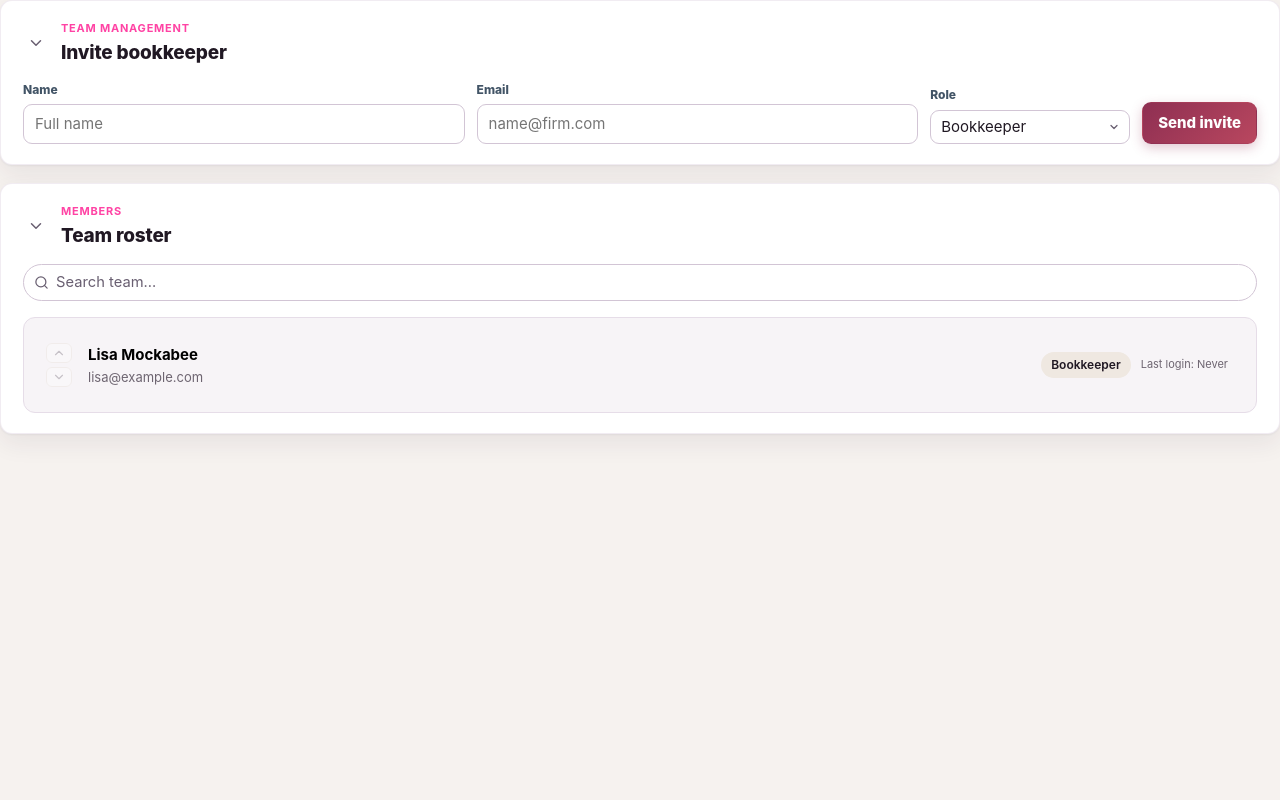
it: suggestions › shows no Suggested block when she holds no work off her team
Click the button with class "team-card-header": (143, 354) [72,330,1244,400]
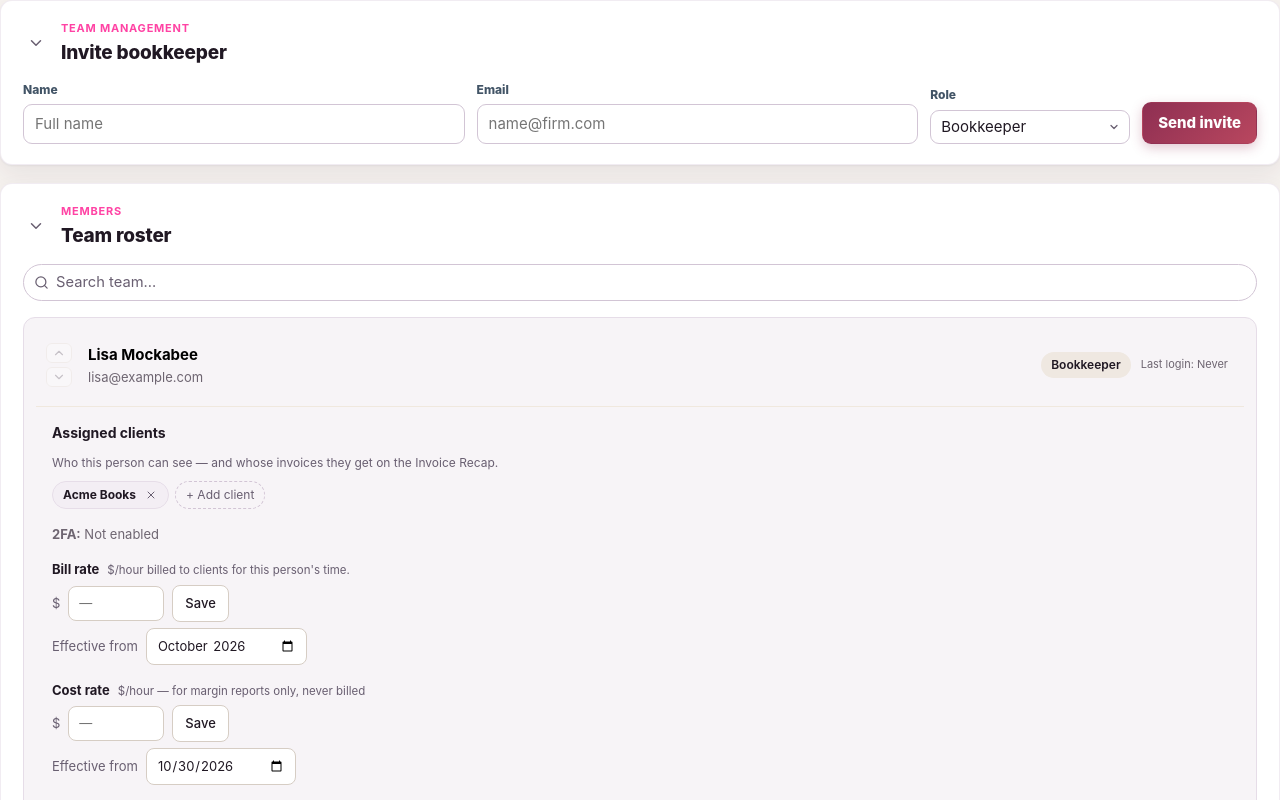
Expected: the heading "Assigned clients" is shown, [52,424,166,441]
Expected: the button "+ Add client" is shown, [175,481,265,509]
